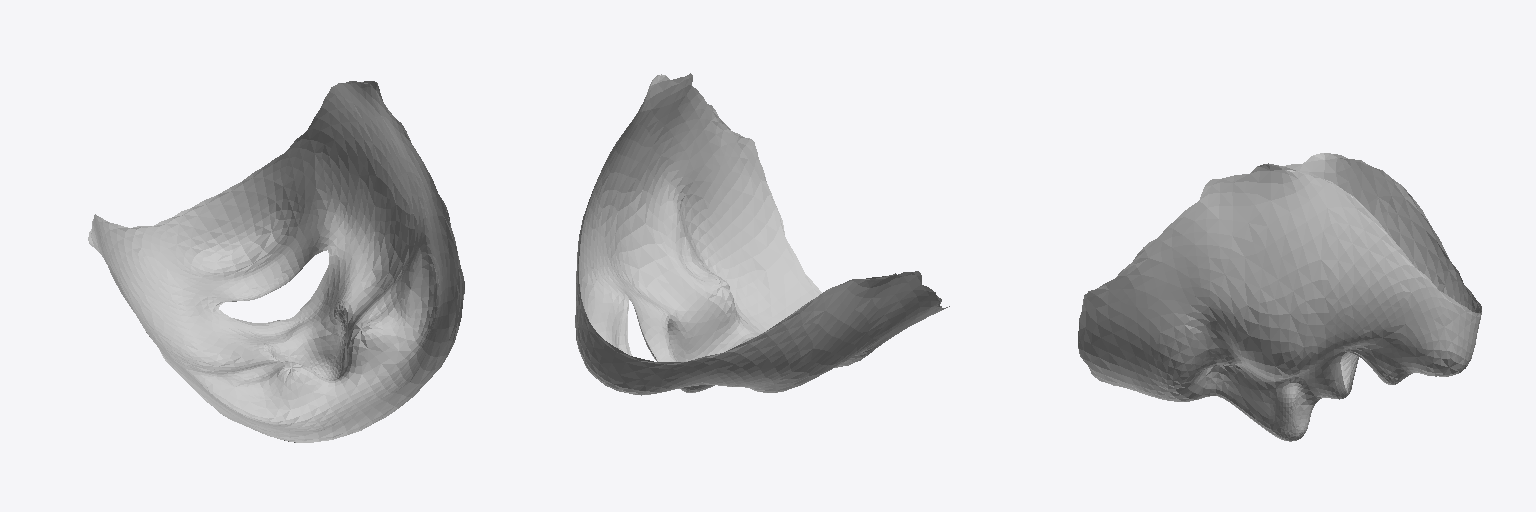
File: face_gab_sfm90.obj
3 views of the same model, side by side, from view 1: azimuth 30°, elevation 25°; view 2: azimuth 150°, elevation 25°; view 3: azimuth 270°, elevation 25° (orthographic).
Size of the model in its own units: 166 by 163 by 201.